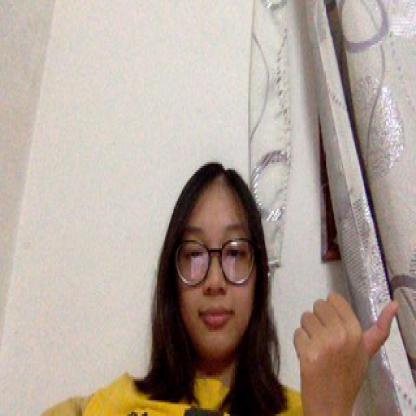left: (292, 289, 400, 406)
